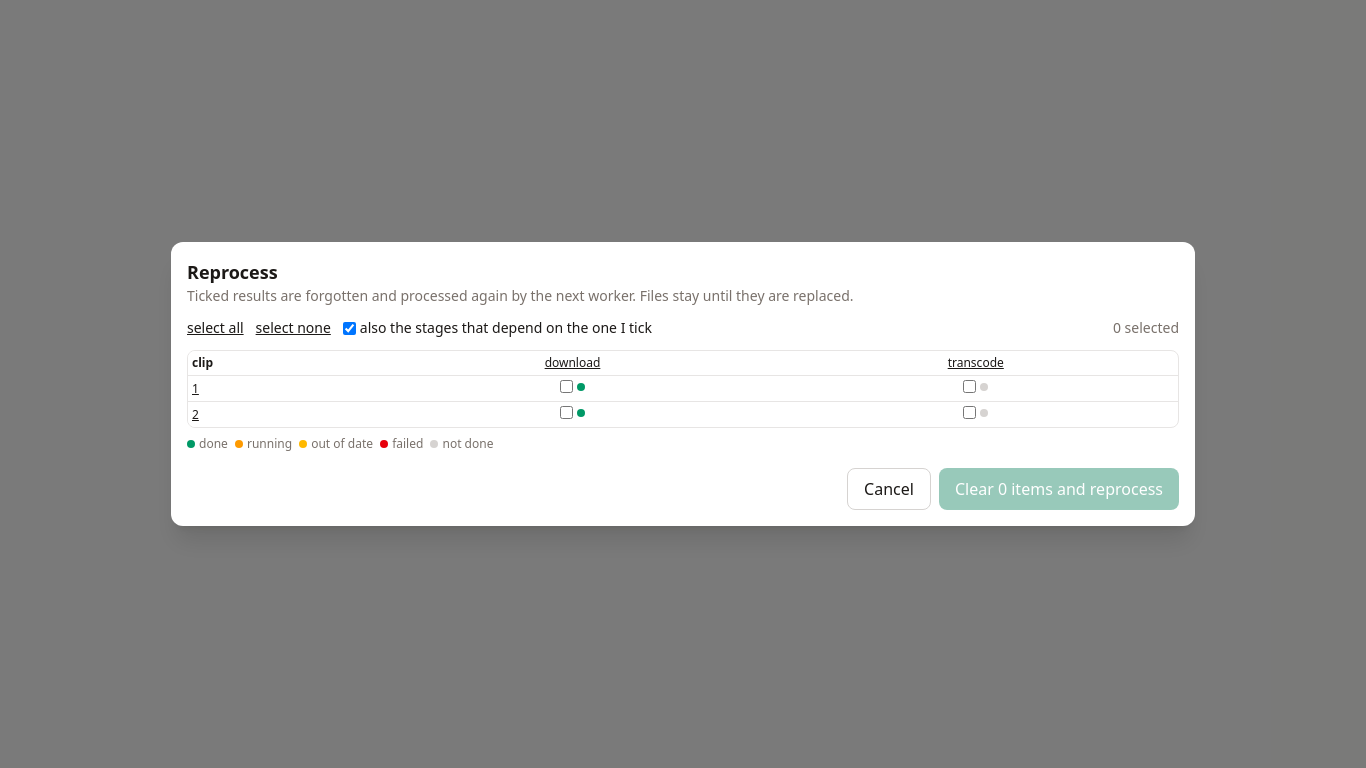
Scenario: RedoDialog › toggles a stage for all clips when clicking stage column header
The width and height of the screenshot is (1366, 768).
Click the button "download" at (572, 363), box [545,355,600,371]
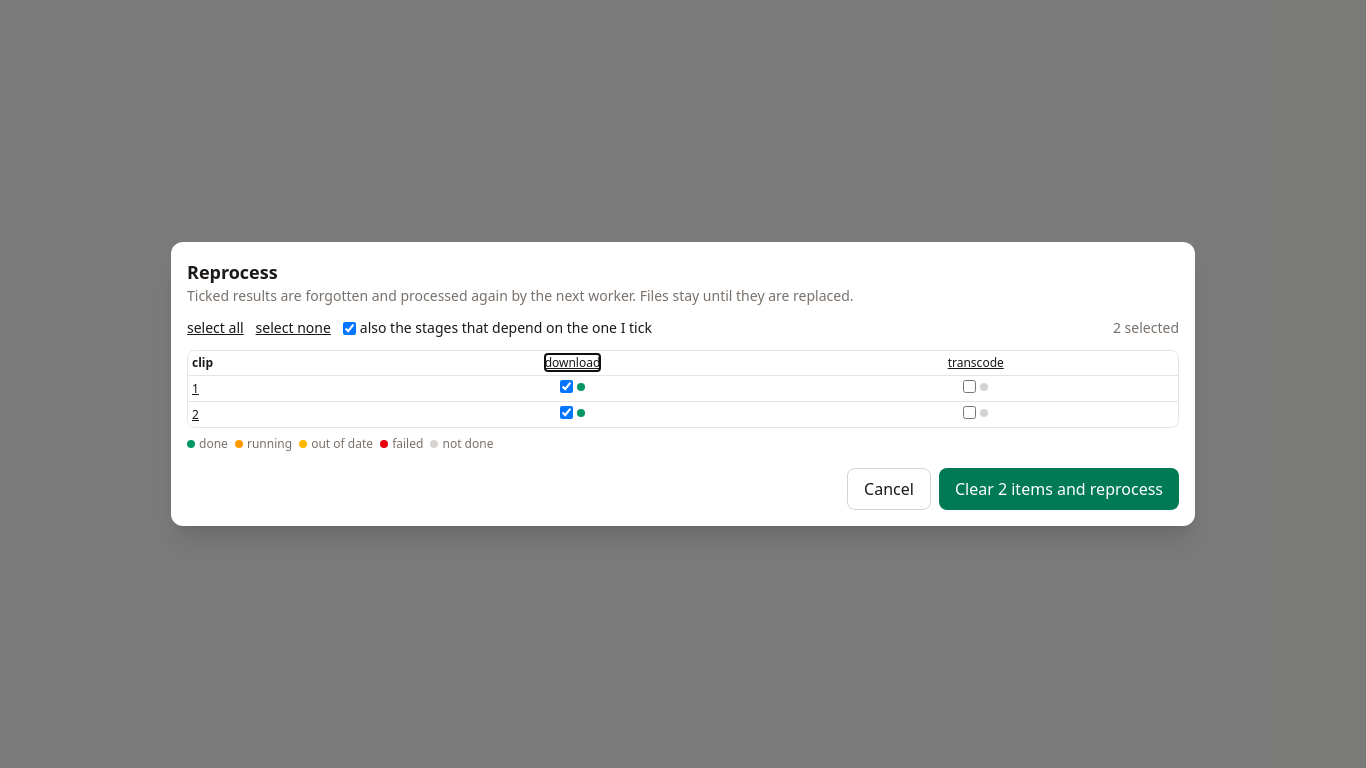
Now the text "2 selected" is shown, box [1113,318,1179,338]
Click the button "download" at (572, 363), box [545,355,600,371]
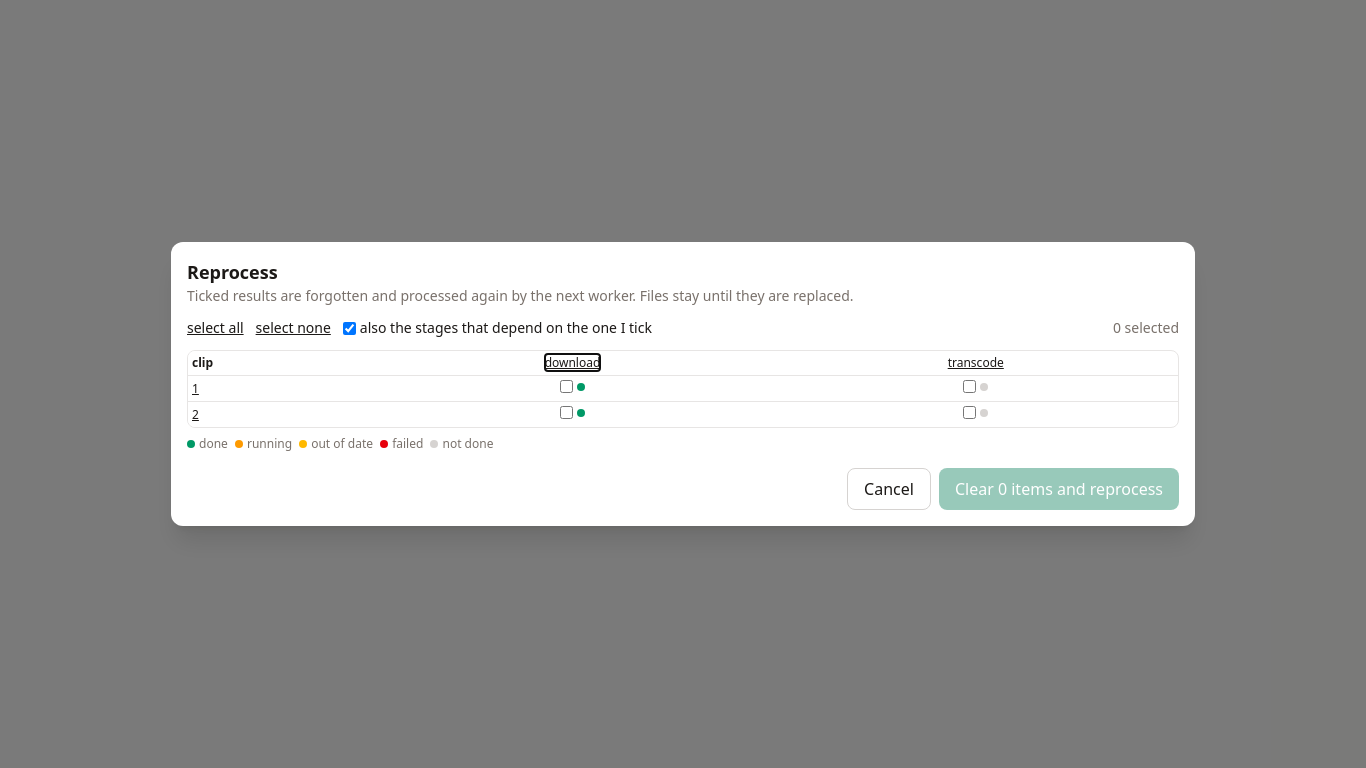
Now the text "0 selected" is shown, box [1113,318,1179,338]
